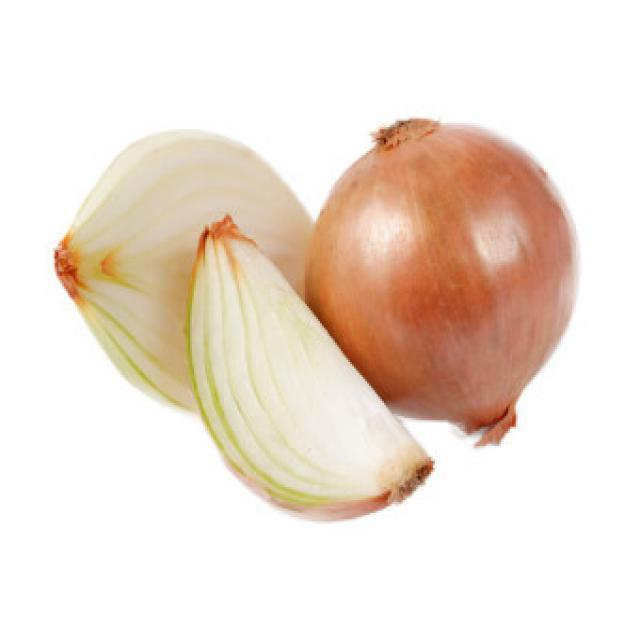Onion: (302, 118, 580, 447), (56, 128, 316, 419), (190, 218, 435, 519)
